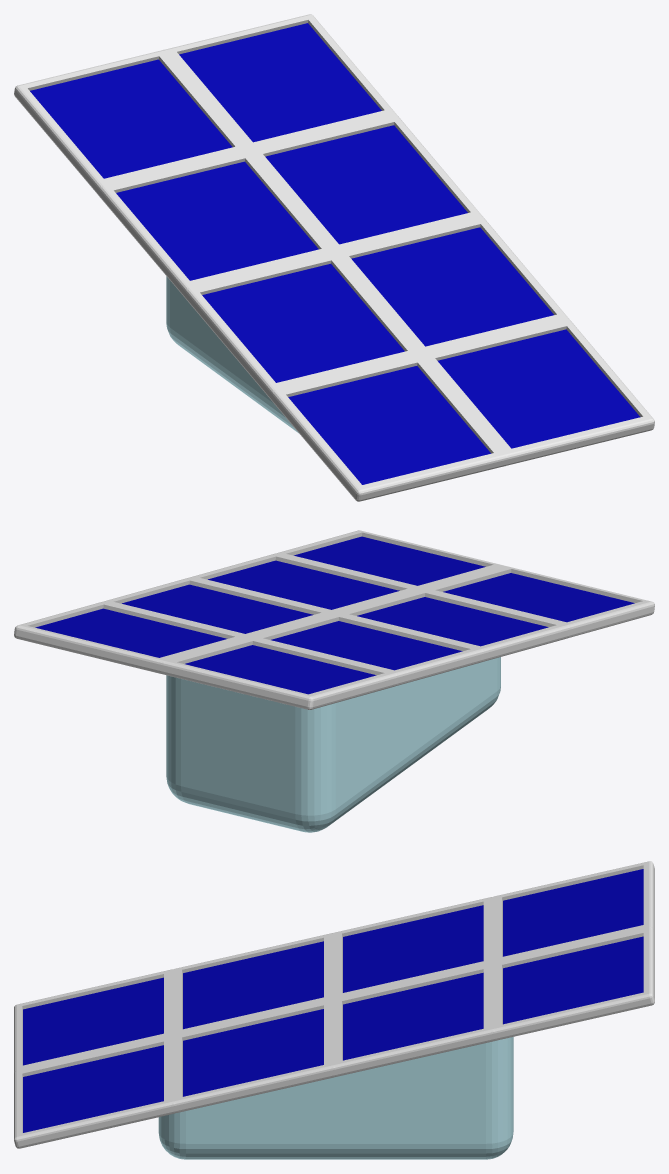
File: solar panel.fbx
3 renders of one model, top to bottom at view 1: azimuth 30°, elevation 25°; view 2: azimuth 150°, elevation 25°; view 3: azimuth 270°, elevation 25°, orthographic. The views are drawn at different scales.
Visible parts, largest first — view 1: Cube.001, Cube; view 2: Cube.001, Cube; view 3: Cube.001, Cube.
Part boxes in pixels (x1,y1,x2,y2): Cube.001: [14, 14, 654, 501]; Cube: [166, 276, 299, 433]; Cube.001: [14, 530, 654, 709]; Cube: [166, 657, 500, 832]; Cube.001: [14, 861, 654, 1148]; Cube: [158, 1037, 513, 1159].
Size of the model in its own units: 360 by 253 by 723.
